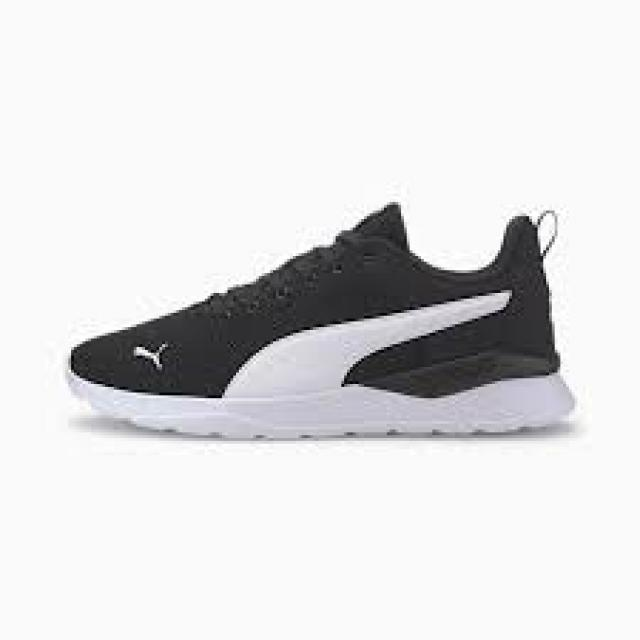Puma: (132, 337, 170, 376)
